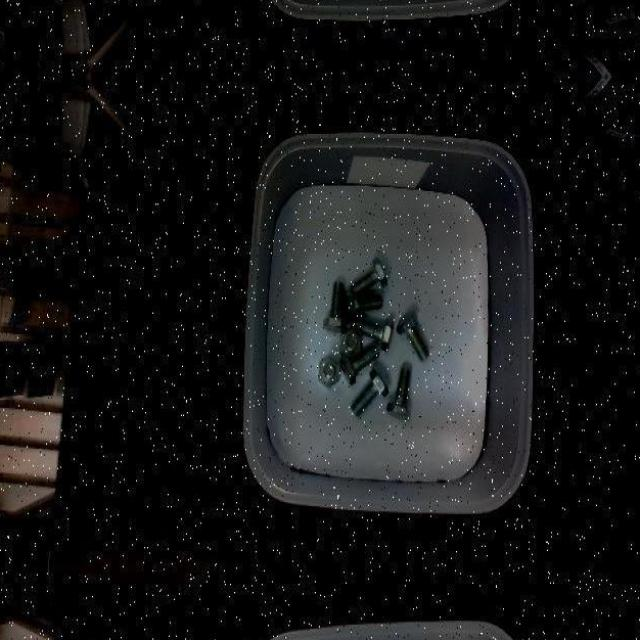screw: (349, 367, 388, 416), (396, 311, 428, 361), (342, 344, 381, 384), (350, 257, 388, 295), (352, 316, 392, 350), (386, 367, 411, 419), (342, 288, 382, 320), (323, 282, 348, 333), (318, 354, 340, 389), (339, 330, 360, 360)
